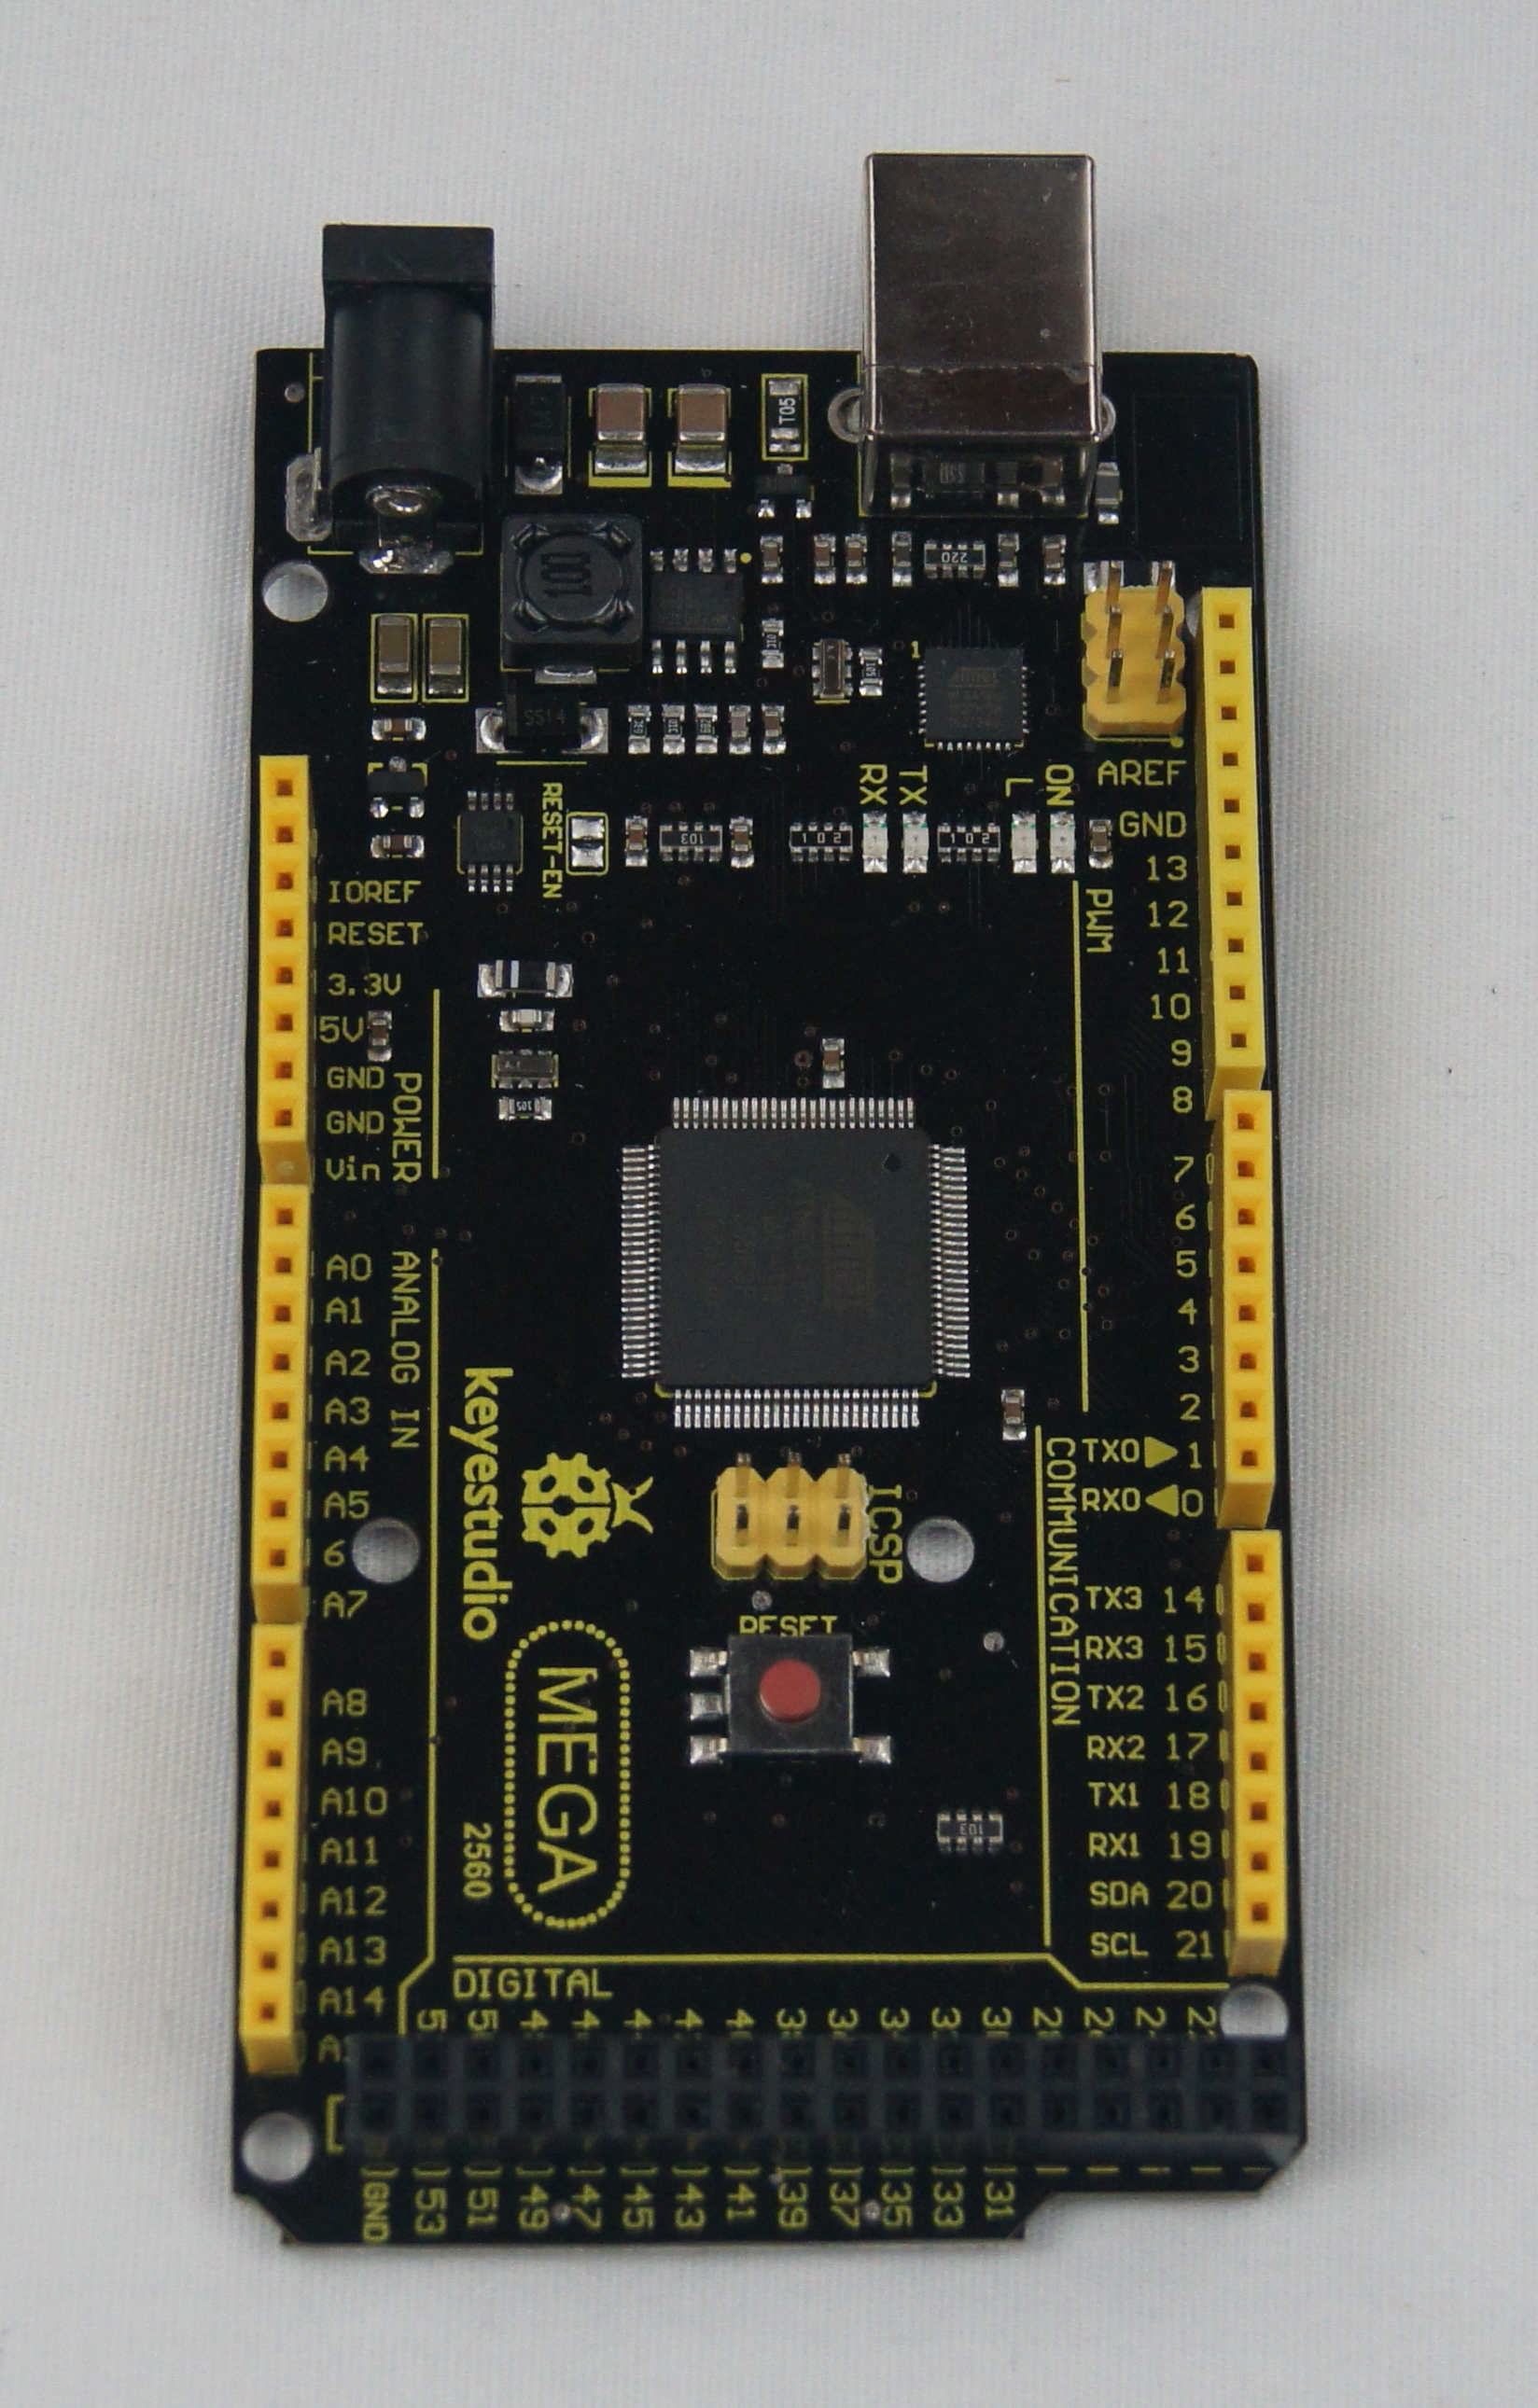connector: (339, 2029, 1306, 2161), (307, 214, 506, 556), (1197, 577, 1268, 1074), (1215, 1527, 1290, 1964), (239, 1174, 316, 1590), (244, 742, 320, 1150), (232, 1615, 302, 2052), (716, 1453, 876, 1583), (1078, 556, 1189, 734)
